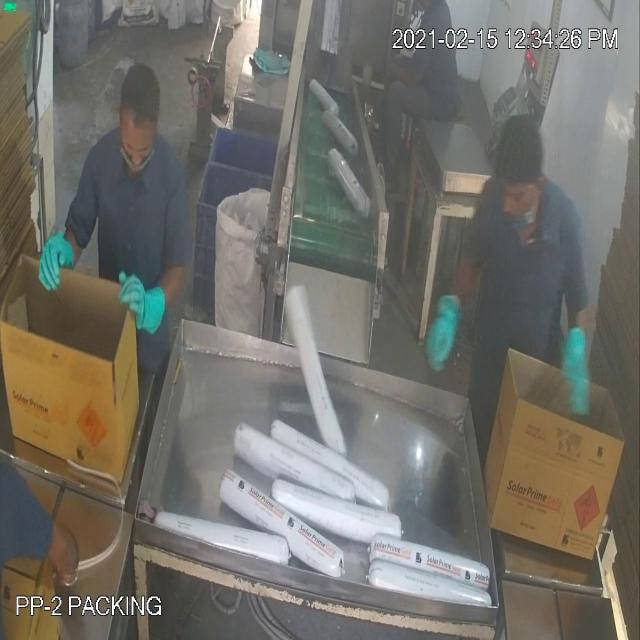gloves: (111, 253, 177, 368), (412, 287, 470, 383), (556, 310, 598, 420), (34, 212, 80, 305)
no-gloves: (18, 476, 82, 596)
